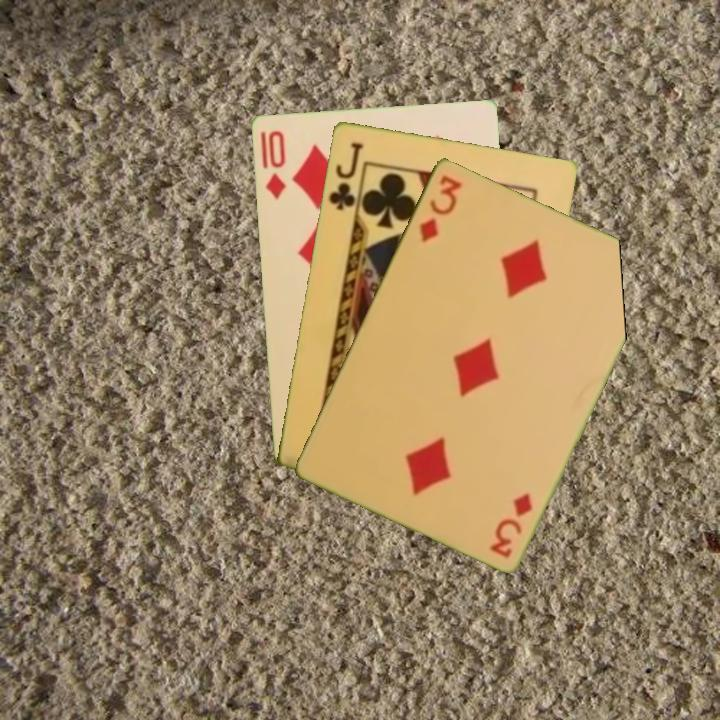10d: (256, 126, 288, 202)
3d: (415, 170, 465, 245), (486, 488, 535, 560)
Jc: (325, 138, 366, 213)
